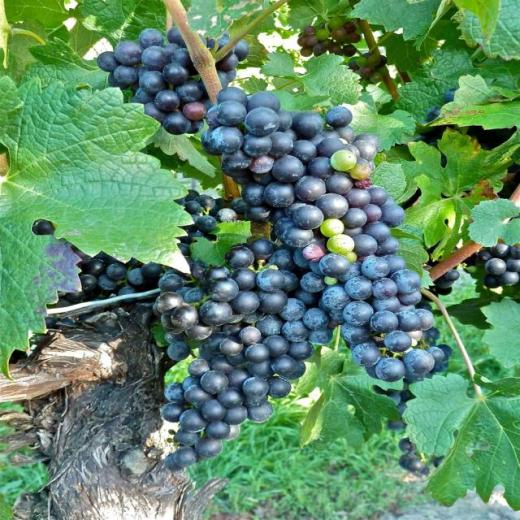Orange: (35, 27, 462, 472), (466, 243, 520, 287), (296, 21, 362, 56), (350, 54, 386, 82), (428, 104, 446, 122), (445, 87, 457, 105)
